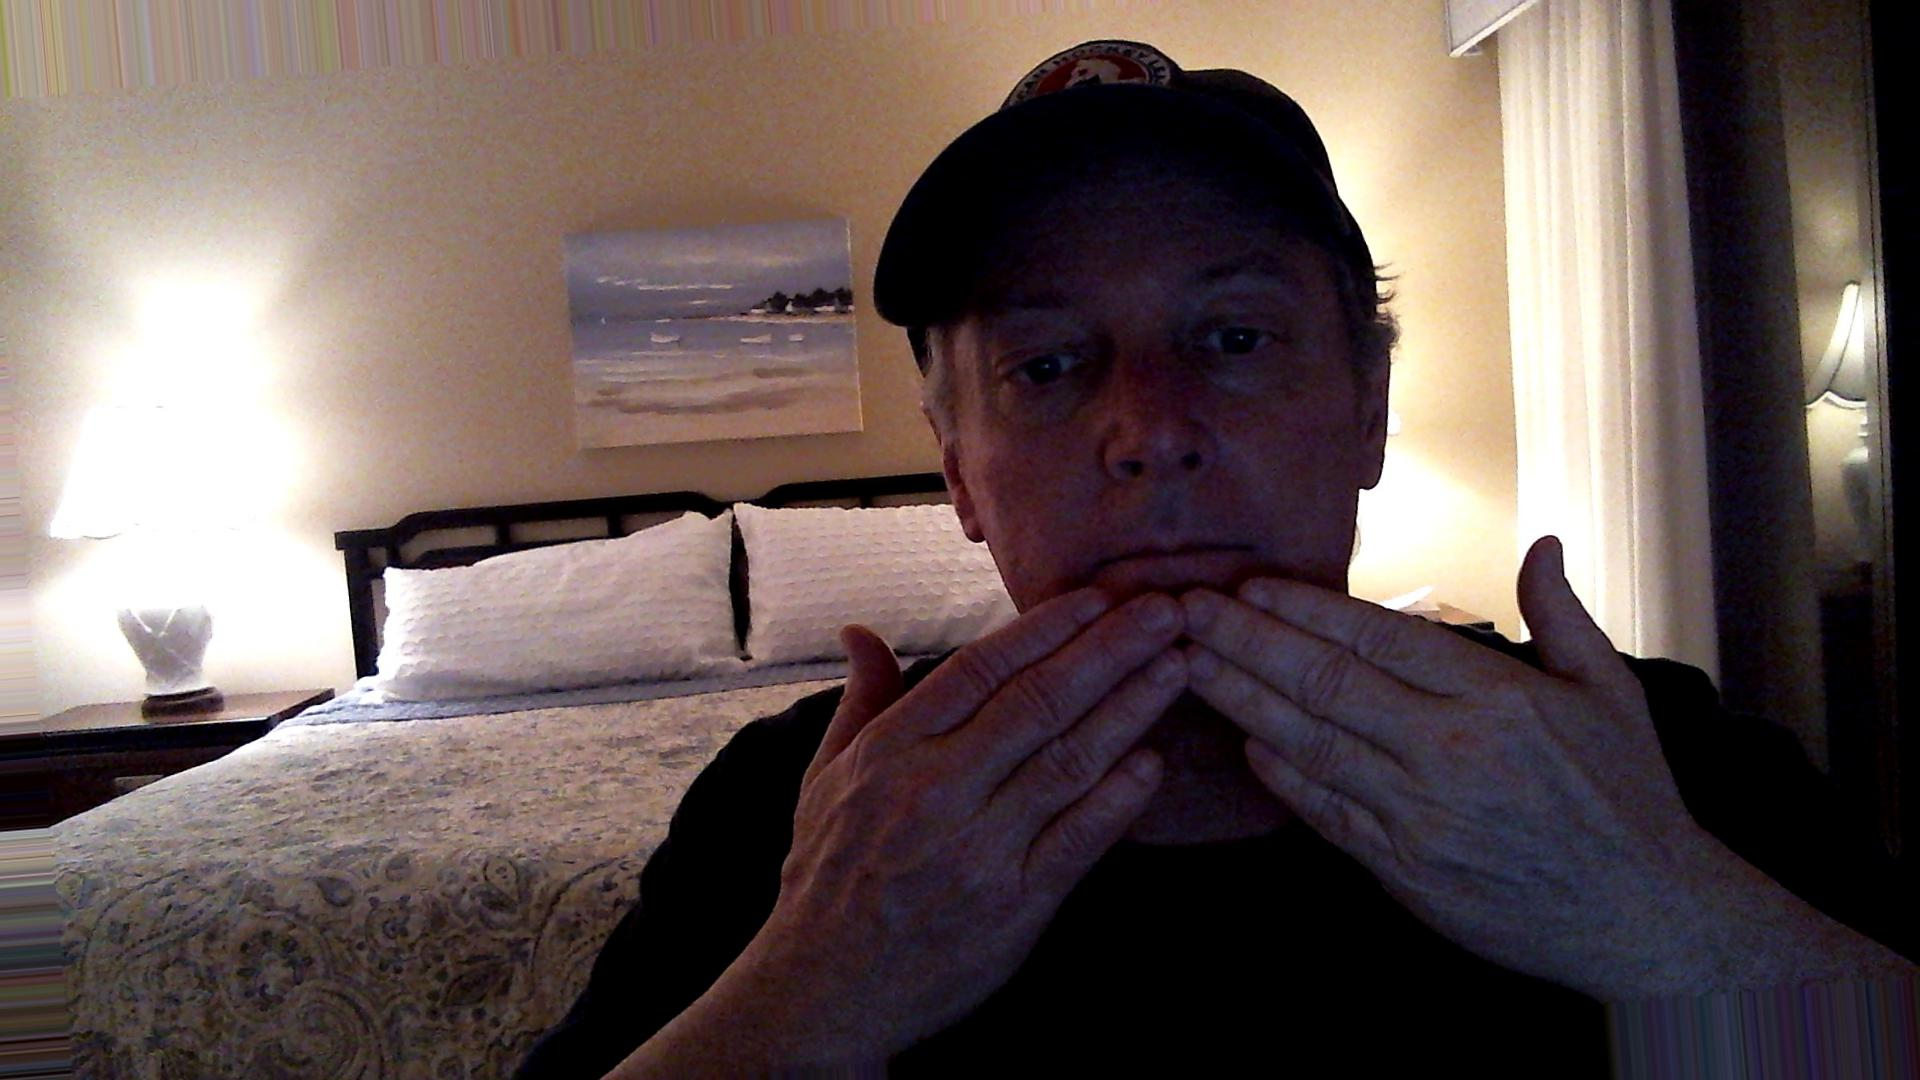Thank You: (779, 530, 1717, 972)
